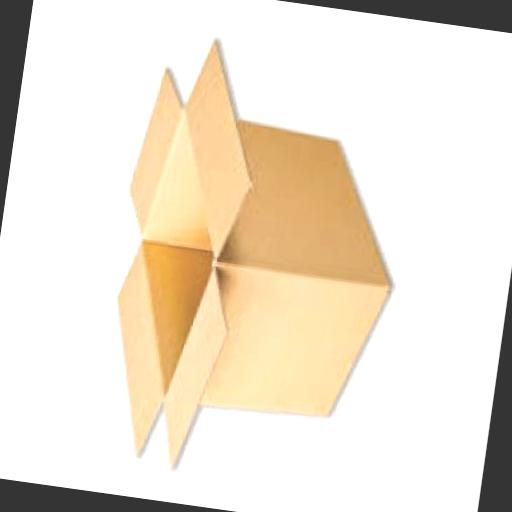cardboard: (88, 32, 418, 499)
